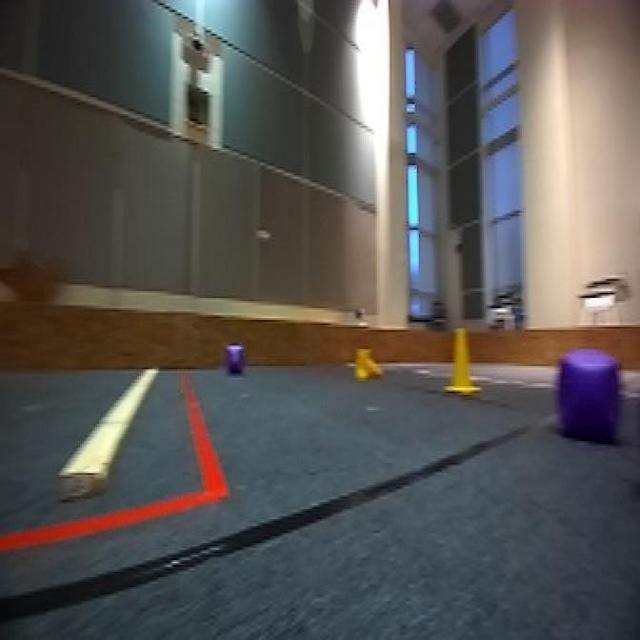frc_cone: (444, 325, 478, 400), (350, 346, 382, 381)
frc_cube: (552, 334, 630, 446), (223, 344, 246, 379)
